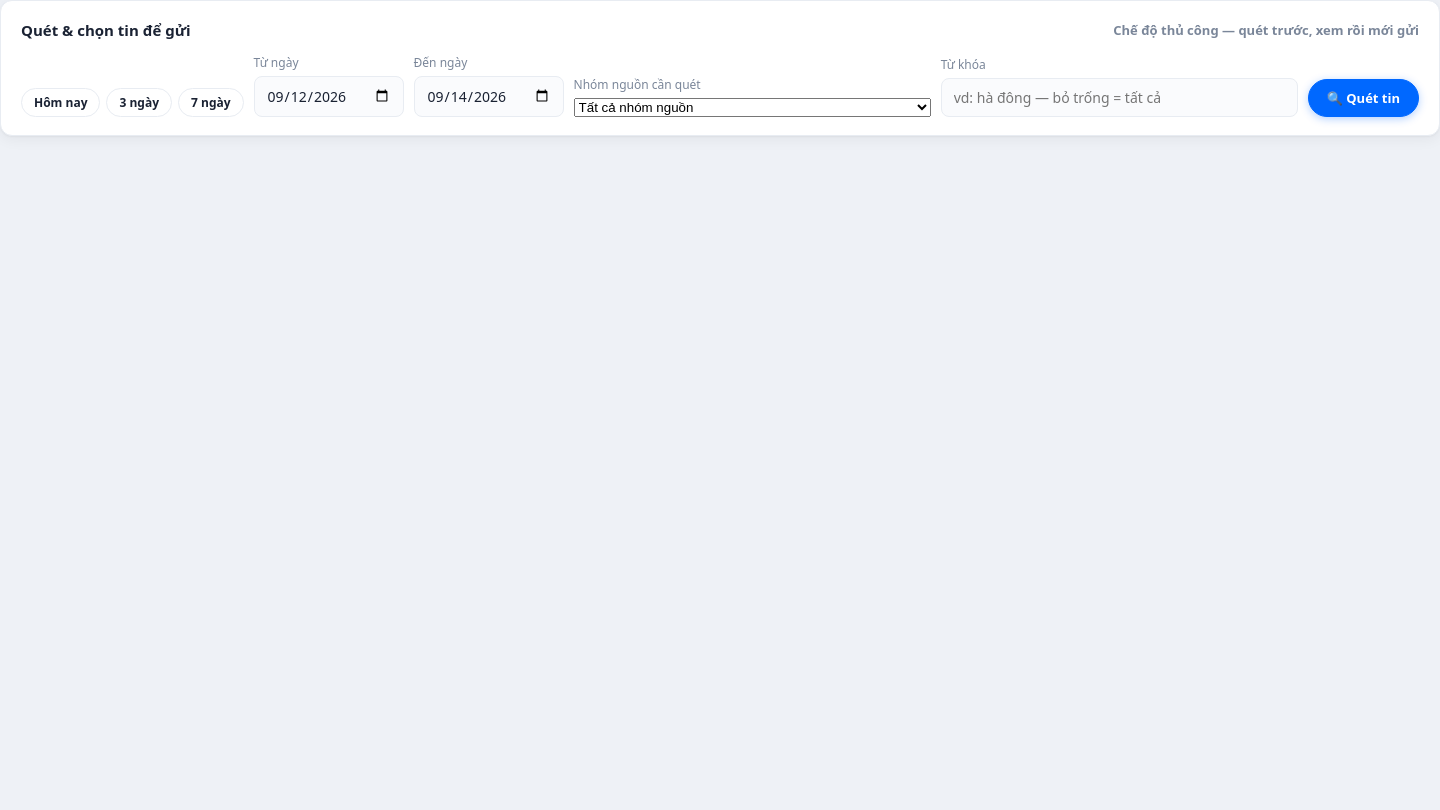
ScanReview undetermined › bài chưa xác định cho chọn tay nhóm đích và lưu rule
Click the button "🔍 Quét tin" at (1363, 98), box [1308,78,1419,116]
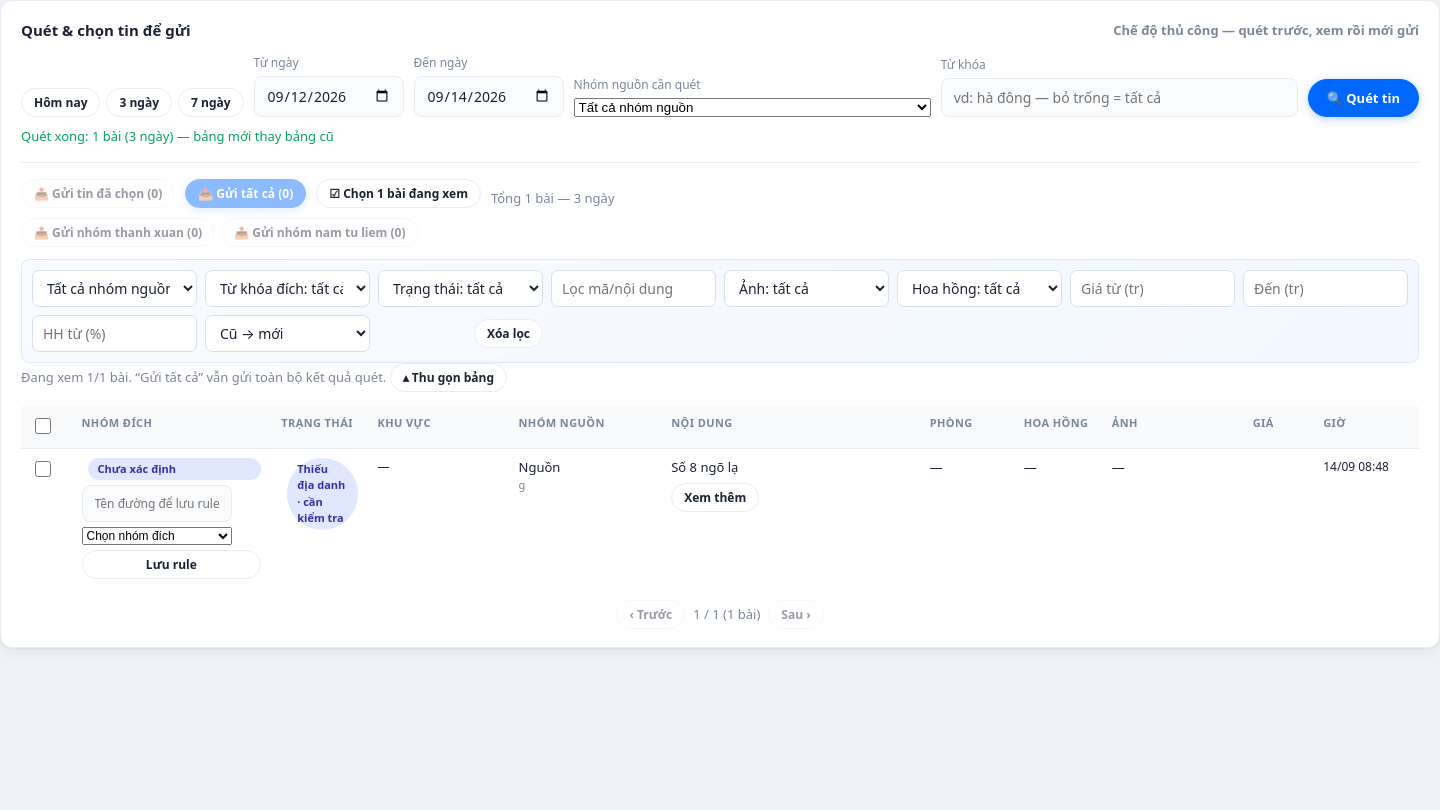
Expected: the text "Chưa xác định" is shown, [88,458,261,480]
Type "Ngõ Lạ" into the field named "Tên địa danh cho tin 1" at (156, 504), box [82,485,232,522]
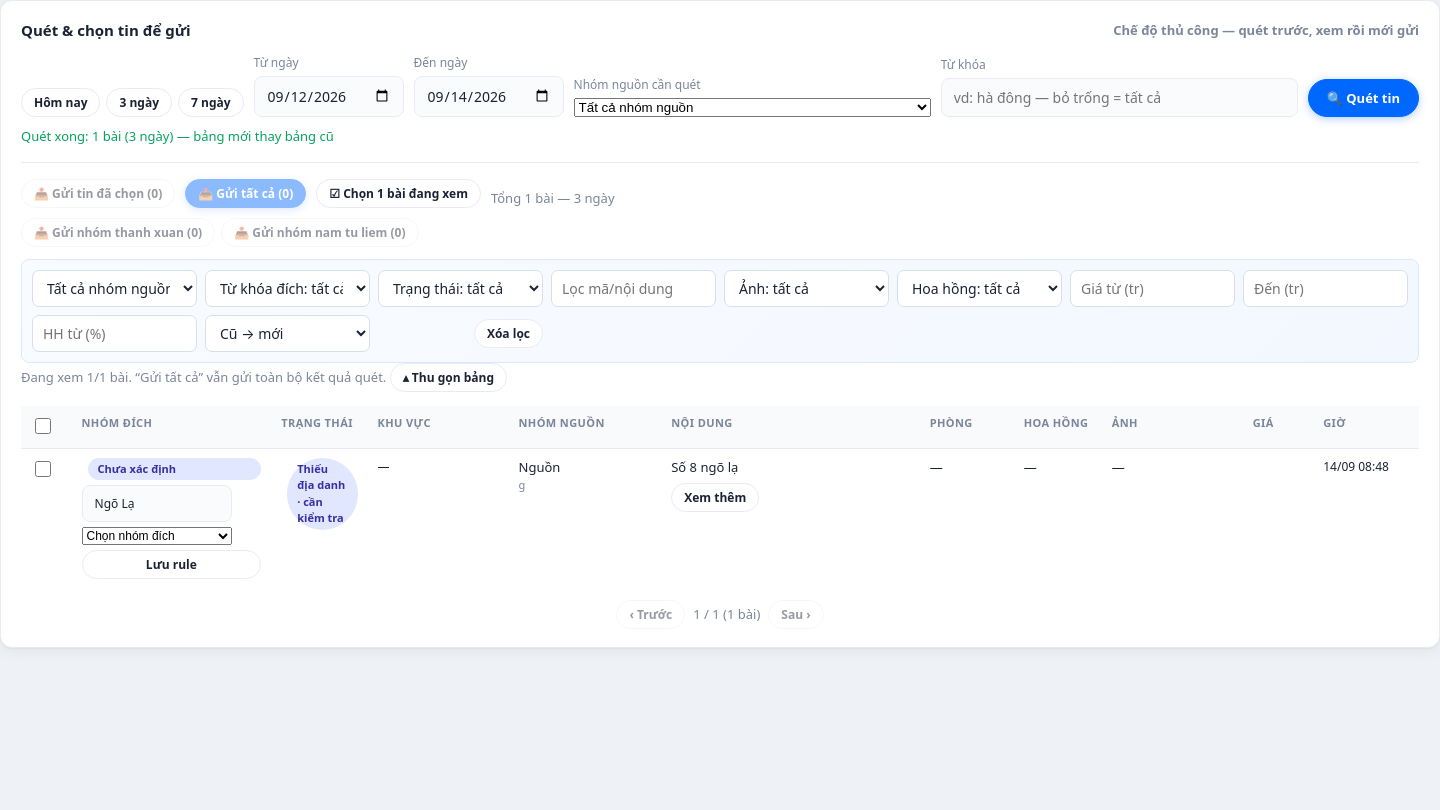
Select "thanh xuan" in the dropdown named "Nhóm đích cho tin 1" at (156, 536), box [82,527,232,545]
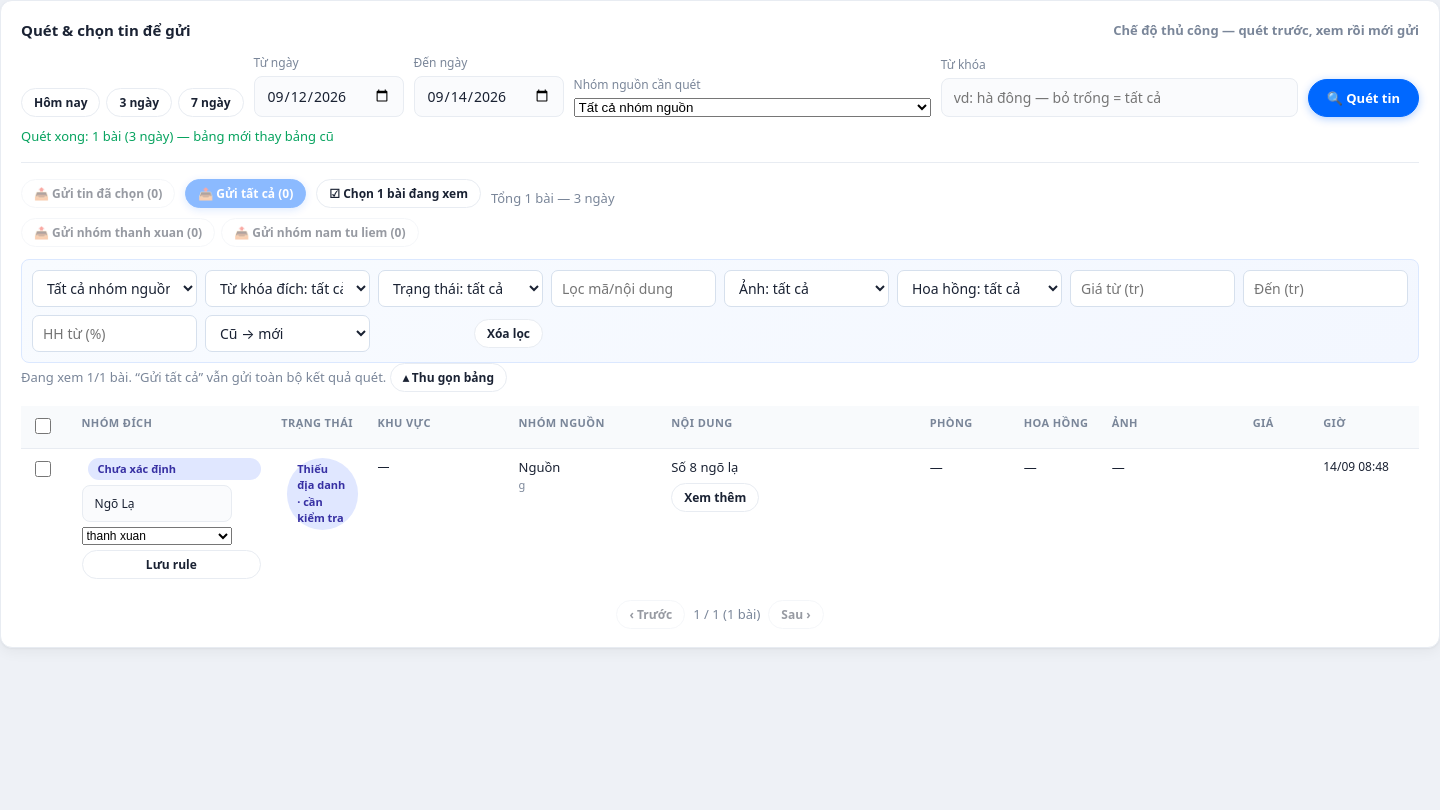
Click the button "Lưu rule" at (171, 564), box [82,550,261,579]
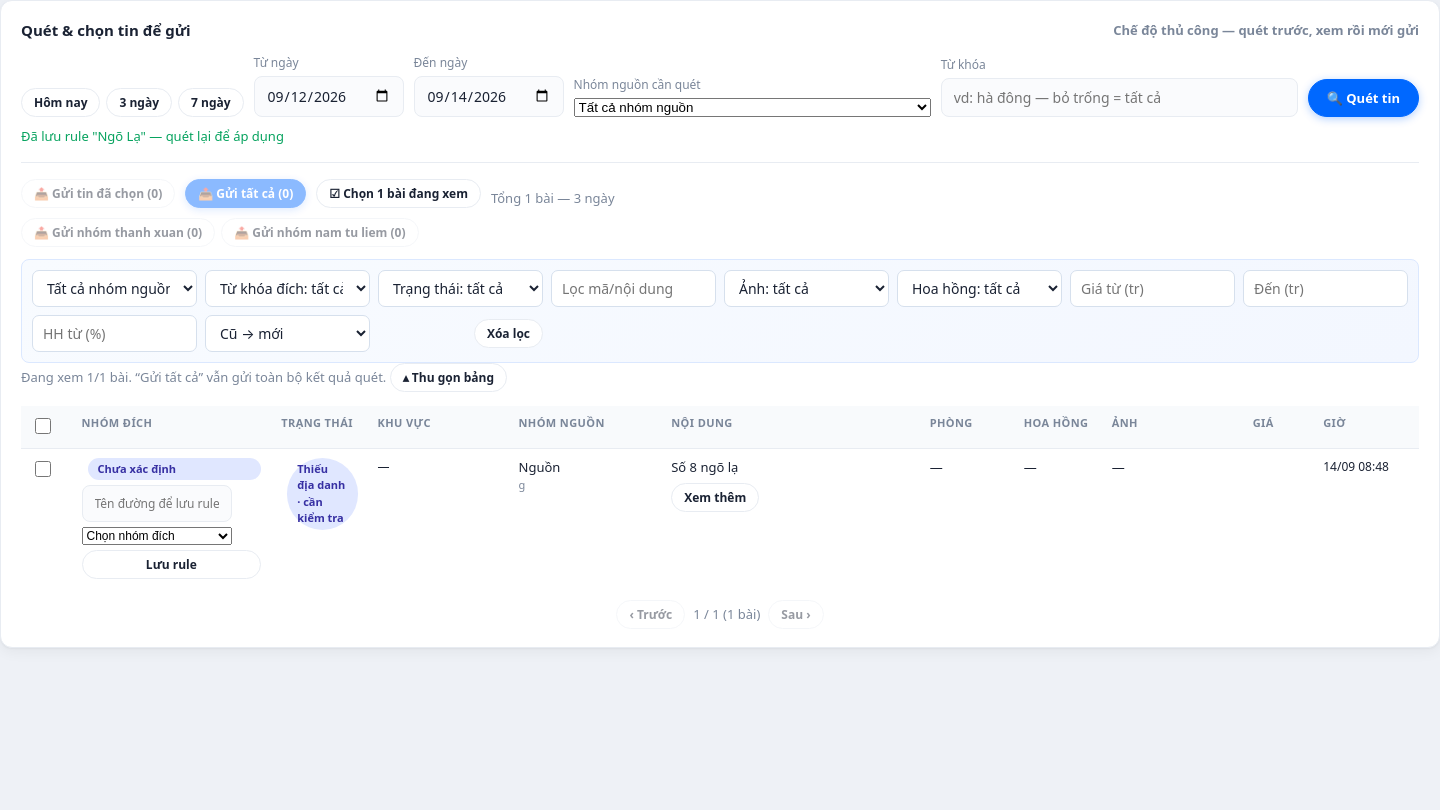
Expected: the text "Đã lưu rule \"Ngõ Lạ\" — quét lại để áp dụng" is shown, [21,126,284,144]
